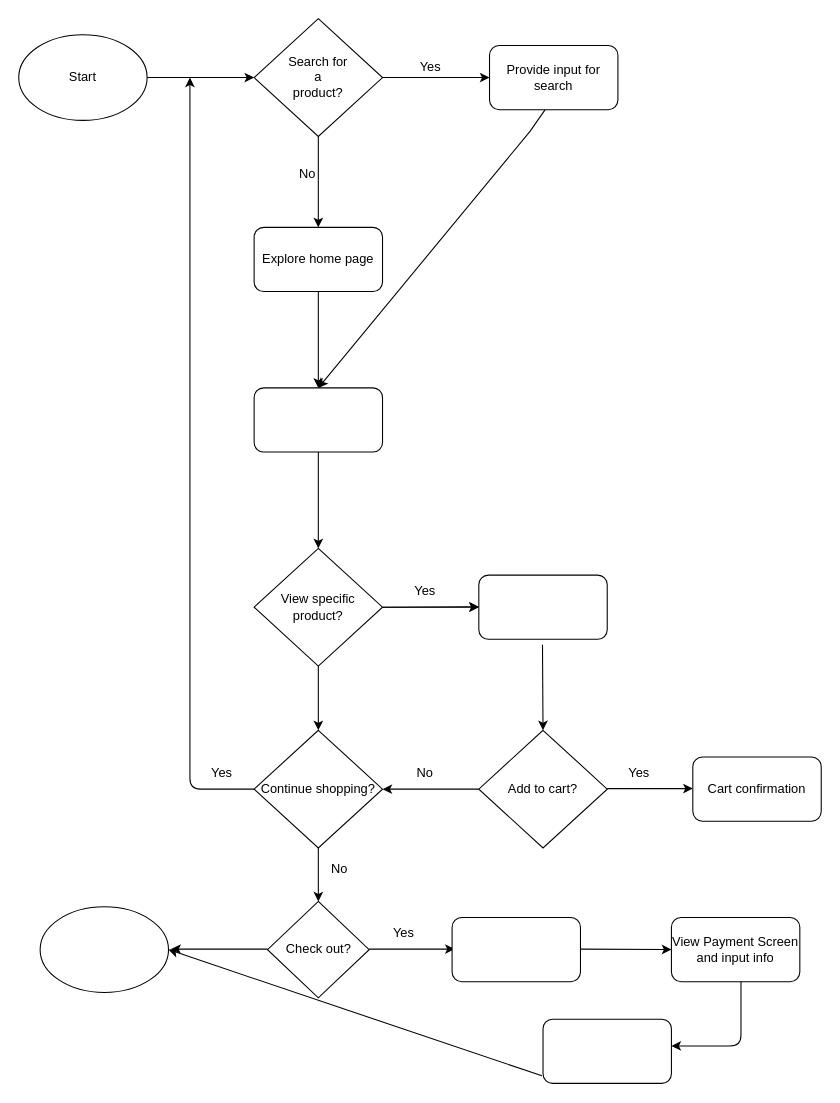
Some shapes in this 840 by 1103 pixel diagram are drawn without their labels. Here are the shapes that lost their labels. From the top down, the box of each, then its label:
(253, 387, 383, 452): Look over products
(478, 574, 607, 639): Product web page opens
(39, 906, 169, 992): Leave site
(451, 916, 580, 982): View Cart Screen
(542, 1018, 671, 1083): Order Confirmation screen and recieve email
